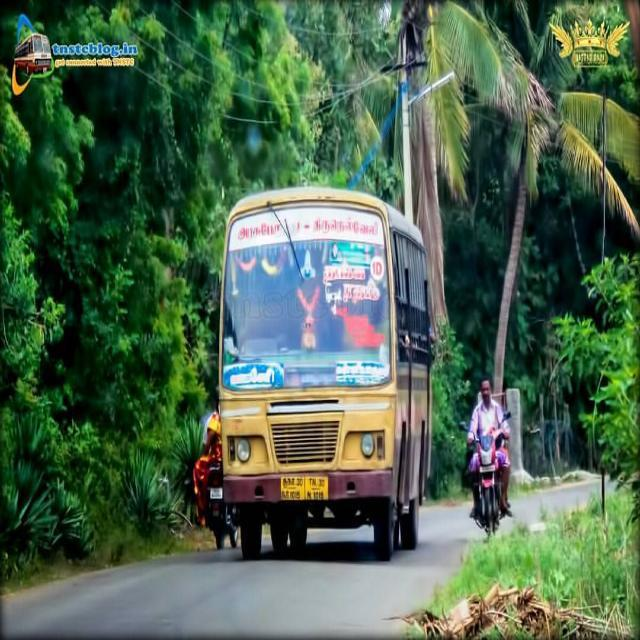Bus: (214, 183, 438, 563)
